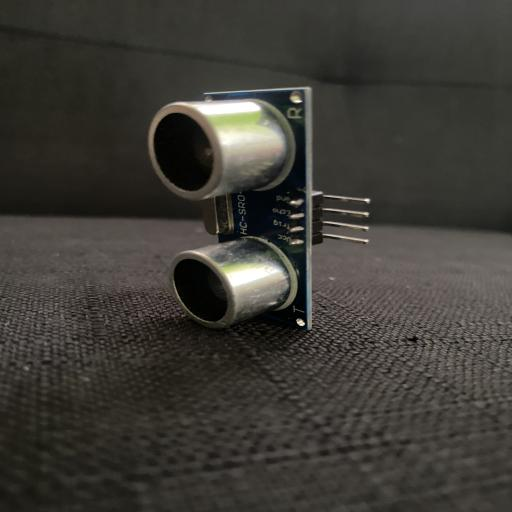Ultrasonic Sensor: (145, 85, 371, 333)
